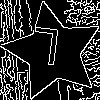L: (28, 27, 62, 76)
